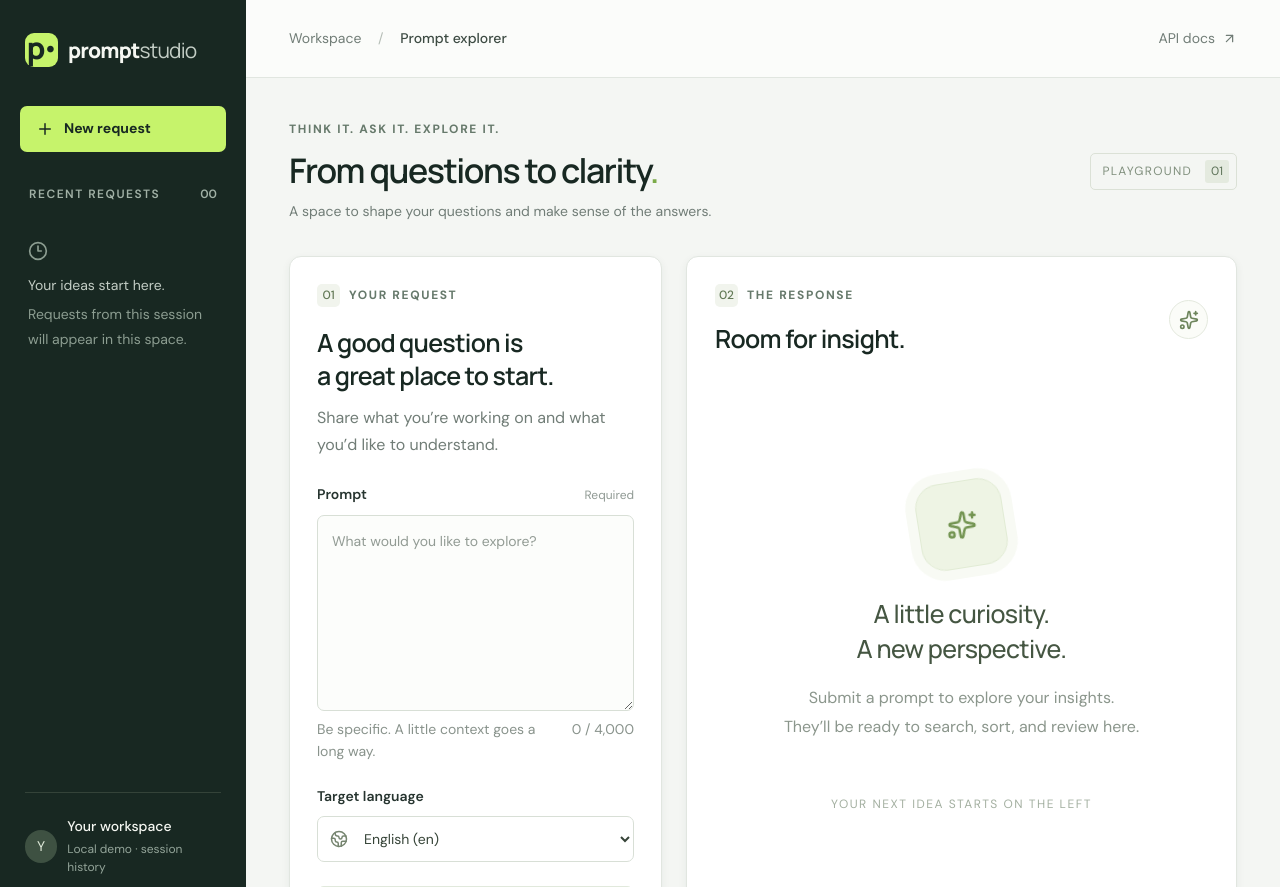
Test: structured 4xx errors remain visible and the prompt can be corrected
In the text box labelled "Prompt": (476,613) [317,515,634,711], type "Improve customer onboarding"
(page scrolled)
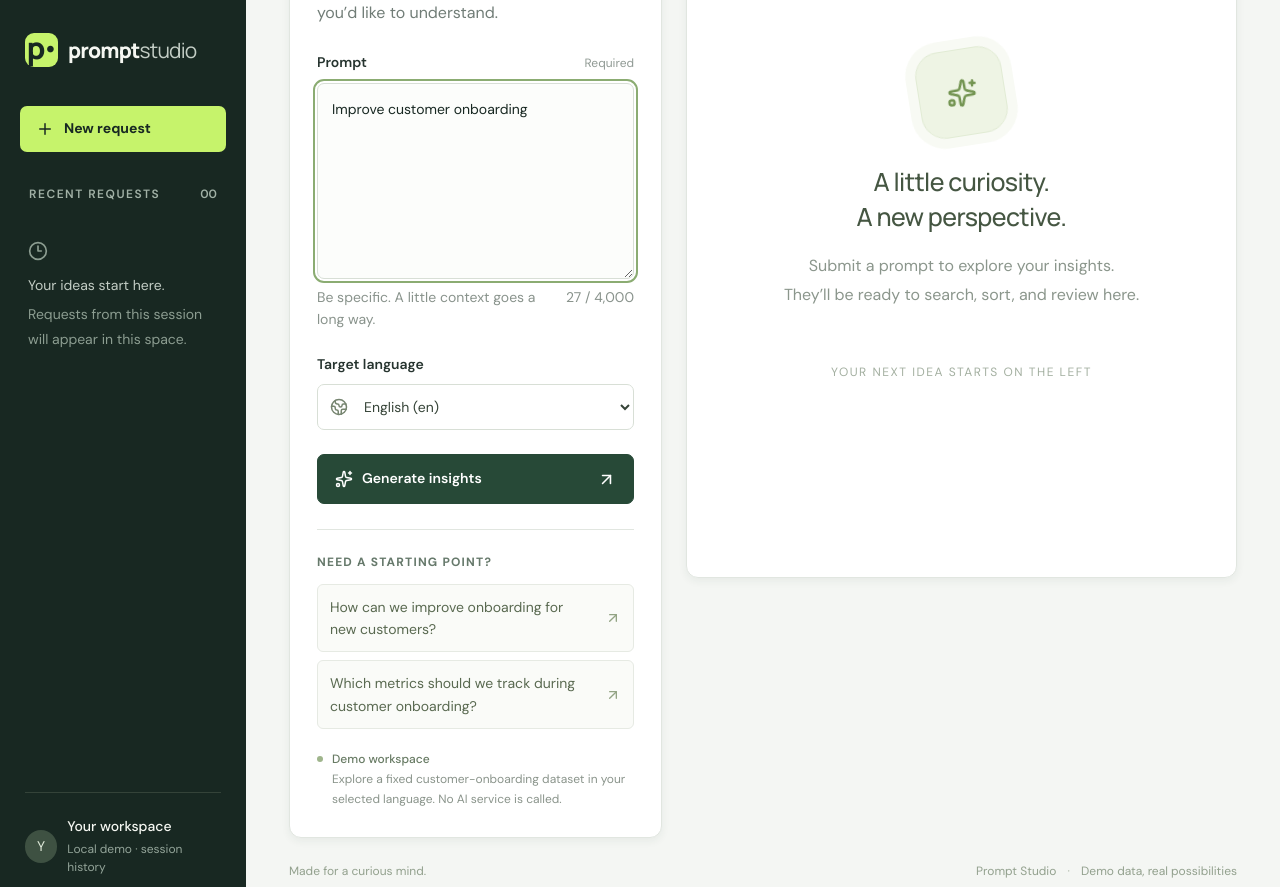
Click the button "Generate insights": (476,479) [317,454,634,504]
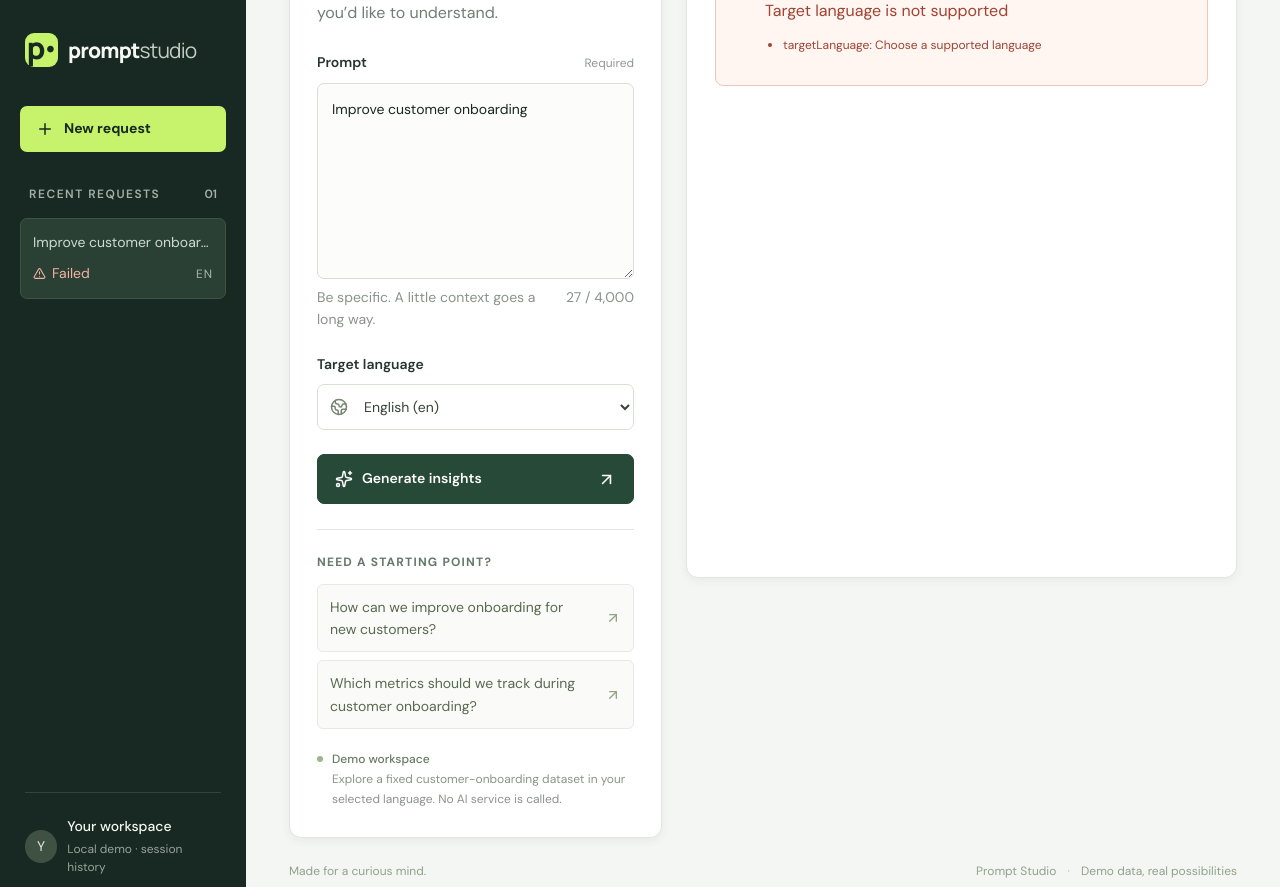
Expected: the text box labelled "Prompt" holds "Improve customer onboarding", [317,83,634,279]
Expected: the button "Generate insights" is enabled, [317,454,634,504]
Expected: the message shows "Target language is not supported", [765,0,1008,21]
